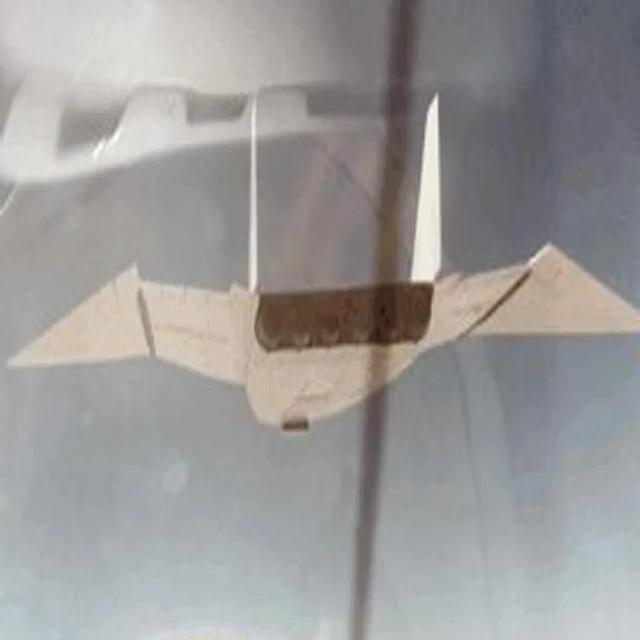MIL_Plane: (3, 93, 640, 428)
